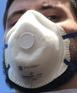with_mask: (2, 1, 77, 93)
